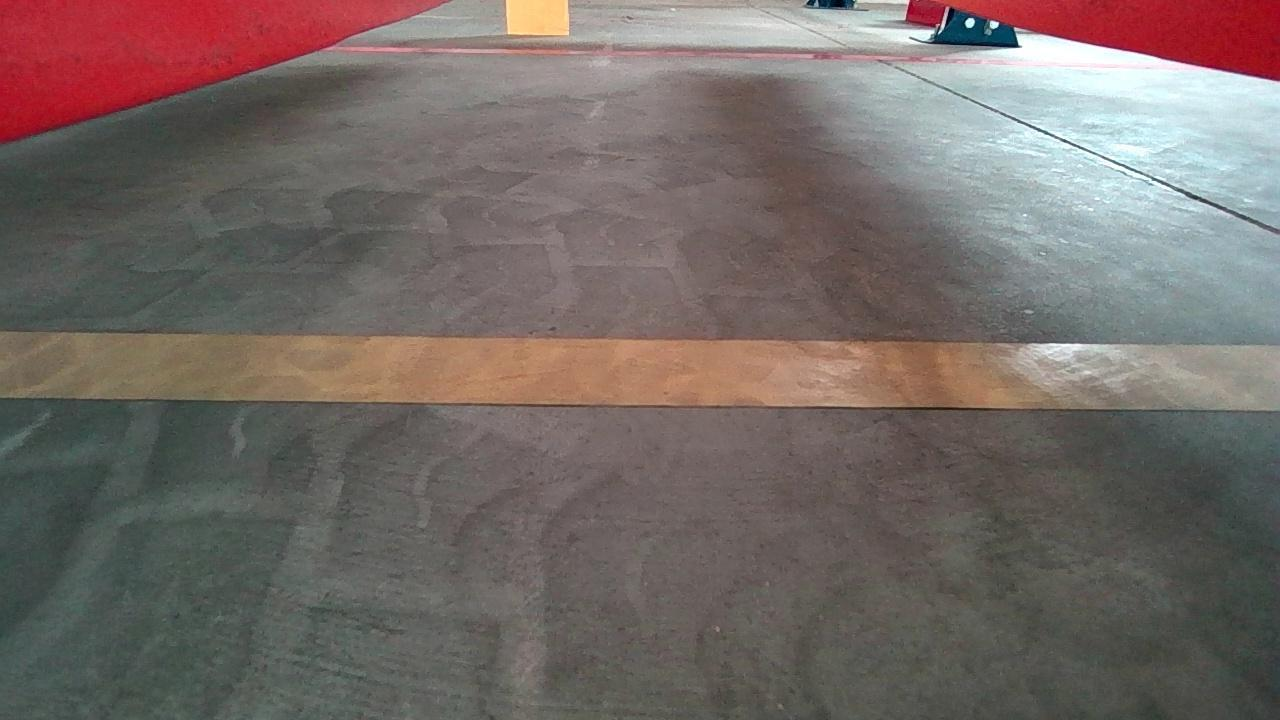red_line: (321, 39, 1171, 65)
yellow_line: (0, 329, 1279, 412)
